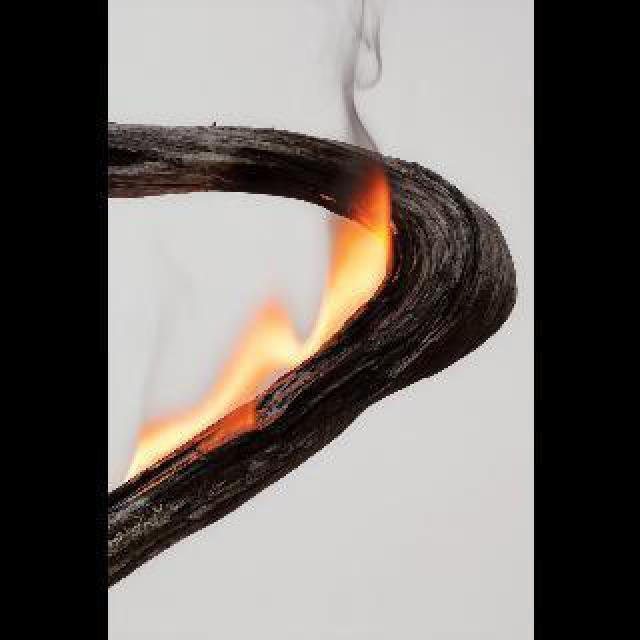Fire: (140, 160, 404, 556)
Smoke: (323, 7, 400, 194)
